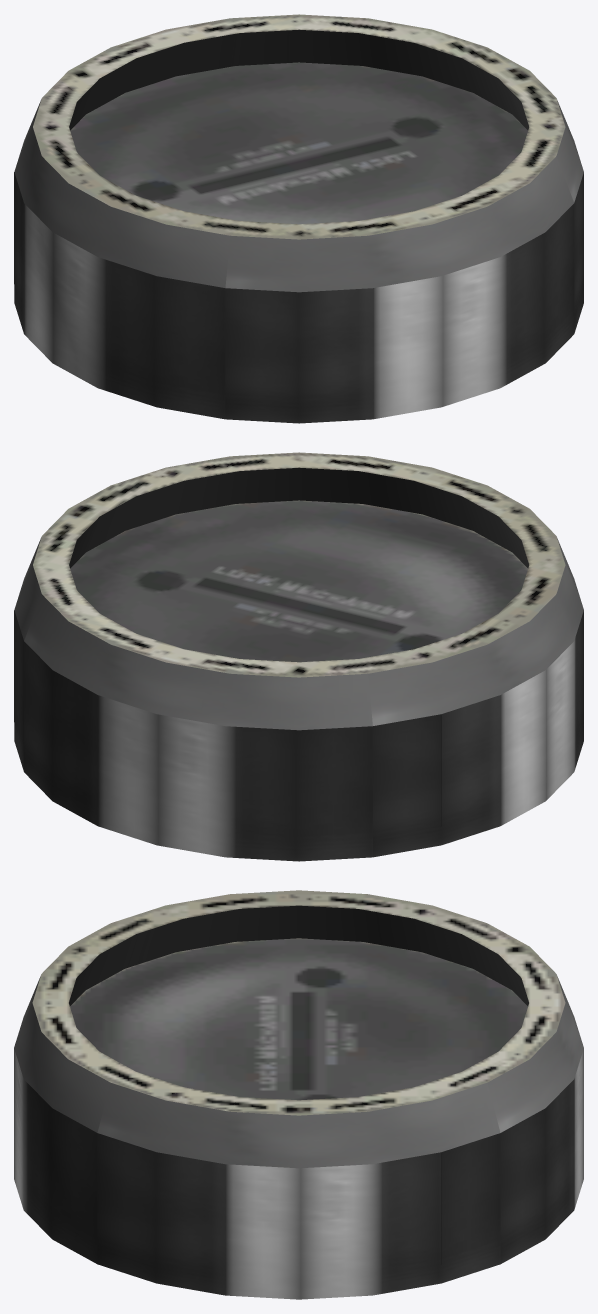
Rendered from Mk1DockingPort.FBX.
The picture shows the model from 3 angles, top to bottom: view 1: azimuth 30°, elevation 25°; view 2: azimuth 150°, elevation 25°; view 3: azimuth 270°, elevation 25°; orthographic projection.
Visible parts, largest first — view 1: MainBody; view 2: MainBody, cap; view 3: MainBody, cap.
Boxes of the visible parts, box(x1,y1,x2,y2) form: MainBody: box(14, 14, 583, 423); MainBody: box(14, 452, 583, 861); cap: box(14, 610, 441, 842); MainBody: box(14, 890, 583, 1299); cap: box(441, 1048, 583, 1264).
Size of what is drawn, in the model's own units: 0.5393 by 0.184 by 0.5393.
1 material, 1 textured.
